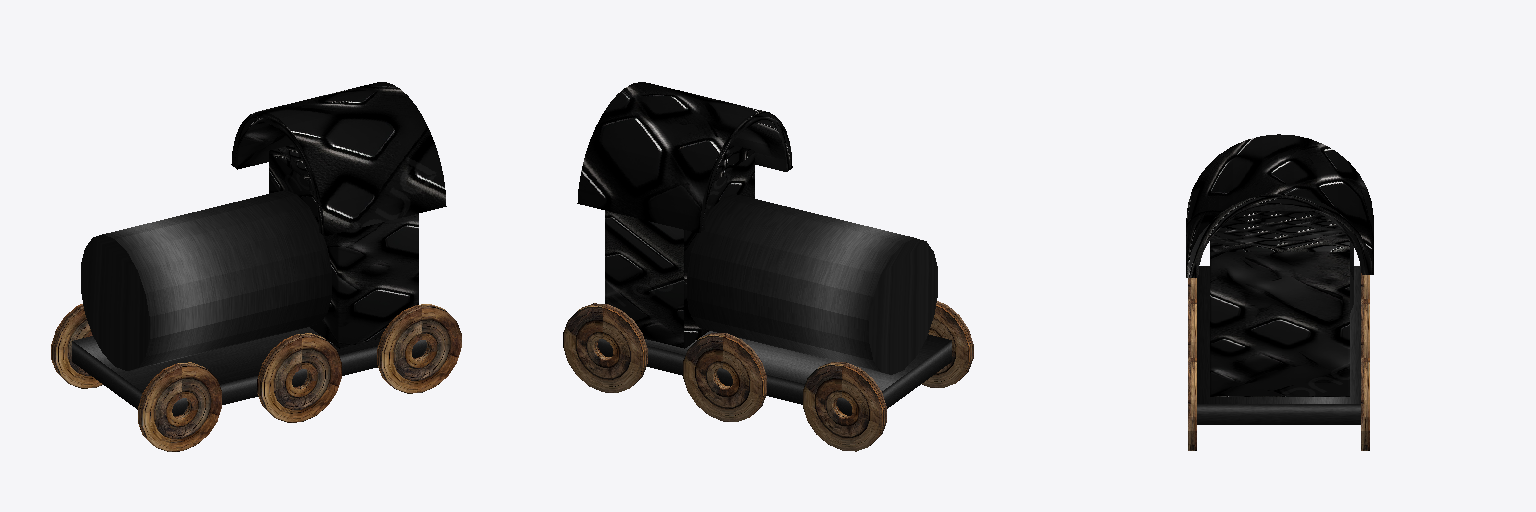
The picture shows the model from 3 angles: view 1: azimuth 30°, elevation 25°; view 2: azimuth 150°, elevation 25°; view 3: azimuth 270°, elevation 25°; orthographic projection.
Visible parts, largest first — view 1: Cylinder001, Tube007, ChamferBox001, Box001, Tube002, Tube003, Tube001, Tube004; view 2: Cylinder001, Tube007, ChamferBox001, Box001, Tube006, Tube004, Tube005, Tube001; view 3: ChamferBox001, Tube007, Box001, Tube003, Tube006, Cylinder001, Tube002, Tube005.
Boxes of the visible parts, x1=… form: Cylinder001: x1=81, y1=190, x2=331, y2=370; Tube007: x1=231, y1=82, x2=446, y2=235; ChamferBox001: x1=269, y1=145, x2=418, y2=348; Box001: x1=72, y1=327, x2=426, y2=415; Tube002: x1=257, y1=333, x2=341, y2=422; Tube003: x1=377, y1=304, x2=461, y2=393; Tube001: x1=138, y1=362, x2=221, y2=451; Tube004: x1=51, y1=304, x2=102, y2=388; Cylinder001: x1=687, y1=194, x2=937, y2=374; Tube007: x1=577, y1=82, x2=792, y2=232; ChamferBox001: x1=605, y1=145, x2=754, y2=348; Box001: x1=598, y1=331, x2=951, y2=415; Tube006: x1=563, y1=303, x2=647, y2=392; Tube004: x1=803, y1=362, x2=886, y2=451; Tube005: x1=683, y1=333, x2=766, y2=421; Tube001: x1=922, y1=301, x2=973, y2=387; ChamferBox001: x1=1210, y1=211, x2=1349, y2=396; Tube007: x1=1186, y1=134, x2=1373, y2=277; Box001: x1=1197, y1=266, x2=1360, y2=424; Tube003: x1=1188, y1=358, x2=1196, y2=450; Tube006: x1=1361, y1=358, x2=1369, y2=450; Cylinder001: x1=1248, y1=204, x2=1353, y2=312; Tube002: x1=1188, y1=299, x2=1196, y2=357; Tube005: x1=1361, y1=299, x2=1369, y2=357.
Bounding box in the file's own units: 62 × 49.2 × 31.48.
3 materials, 3 textured.